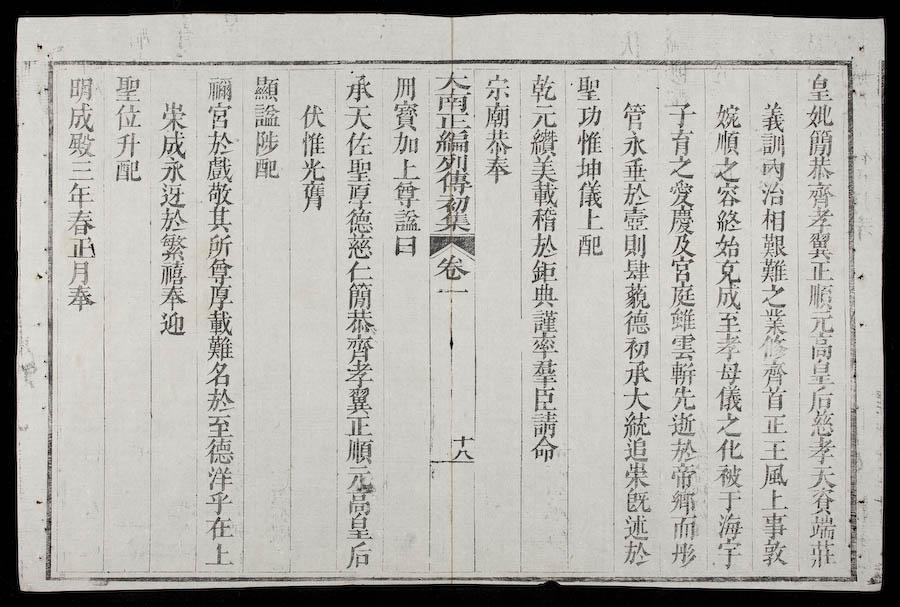c: (342, 71, 376, 103), (433, 254, 471, 282), (157, 99, 190, 131), (663, 99, 698, 128), (757, 100, 788, 132), (527, 72, 559, 103), (804, 230, 836, 261), (64, 101, 97, 131), (110, 73, 144, 102), (804, 540, 839, 568), (572, 73, 604, 103), (712, 539, 744, 569), (803, 72, 835, 102), (249, 73, 282, 102), (527, 128, 560, 157), (758, 539, 791, 568), (435, 171, 473, 196), (62, 208, 97, 235), (202, 438, 237, 465), (432, 69, 473, 92), (433, 130, 472, 154), (390, 101, 421, 131), (482, 73, 514, 102), (343, 387, 375, 416), (342, 103, 375, 131), (804, 282, 837, 310), (157, 233, 190, 261), (528, 358, 561, 386), (343, 336, 377, 363), (804, 437, 838, 464), (110, 103, 144, 130), (298, 182, 328, 212), (712, 101, 743, 130), (620, 282, 652, 310), (713, 384, 745, 412), (481, 128, 513, 156), (667, 333, 699, 361), (204, 74, 236, 102), (343, 541, 375, 569), (803, 102, 836, 129), (343, 438, 376, 465), (805, 410, 838, 437), (64, 285, 97, 312), (620, 540, 653, 567), (806, 488, 839, 515), (712, 333, 745, 360), (63, 131, 97, 157), (202, 515, 236, 541), (64, 235, 99, 260), (619, 100, 648, 130), (575, 180, 605, 209), (666, 128, 697, 156), (621, 461, 652, 489), (667, 462, 699, 489), (157, 132, 189, 159), (619, 206, 651, 233), (758, 232, 790, 259), (621, 411, 653, 438), (666, 207, 698, 234), (343, 131, 375, 158), (805, 386, 837, 413), (804, 182, 836, 209), (758, 308, 790, 335), (65, 74, 97, 101), (528, 411, 560, 438), (528, 436, 560, 463), (667, 541, 699, 568), (111, 131, 143, 158), (758, 360, 790, 387), (712, 463, 745, 489), (757, 258, 790, 284), (63, 180, 96, 206), (203, 387, 236, 413), (667, 515, 700, 541), (203, 542, 236, 568), (433, 91, 472, 113), (758, 512, 791, 538), (805, 515, 839, 540), (252, 129, 282, 157), (482, 156, 512, 184), (574, 129, 604, 157), (390, 73, 420, 101), (621, 309, 652, 336), (391, 181, 422, 208), (666, 180, 697, 207), (528, 233, 559, 260), (805, 335, 836, 362), (713, 512, 745, 538), (344, 235, 376, 261), (621, 360, 653, 386), (667, 386, 699, 412), (344, 466, 376, 492), (713, 412, 745, 438), (203, 465, 235, 491), (758, 462, 790, 488), (204, 335, 236, 361), (344, 209, 376, 235), (666, 412, 699, 437), (343, 310, 376, 335), (805, 464, 839, 488), (298, 102, 328, 129), (344, 514, 374, 541), (805, 129, 835, 156), (204, 205, 234, 232), (251, 103, 282, 129), (528, 157, 559, 183), (204, 130, 235, 156), (204, 156, 235, 182), (574, 233, 605, 259), (528, 207, 559, 233), (112, 158, 143, 184), (204, 258, 235, 284), (712, 259, 743, 285), (204, 310, 235, 336), (157, 311, 188, 337), (621, 514, 652, 540), (204, 284, 235, 310), (667, 490, 699, 515), (621, 386, 653, 411), (713, 437, 745, 462), (667, 361, 699, 386), (528, 183, 560, 208), (667, 438, 699, 463), (433, 212, 473, 232), (805, 360, 837, 385), (758, 437, 790, 462), (804, 156, 836, 181), (805, 311, 837, 336), (759, 335, 791, 360), (157, 261, 189, 286), (157, 207, 189, 232), (203, 413, 235, 438), (343, 362, 376, 386), (345, 283, 374, 310), (205, 102, 234, 129), (529, 284, 559, 310), (713, 208, 743, 234), (757, 181, 787, 207), (667, 257, 697, 283), (712, 130, 742, 156), (482, 103, 512, 129), (204, 233, 234, 259), (713, 285, 743, 311), (619, 132, 649, 158), (529, 386, 559, 412), (759, 386, 789, 412), (620, 182, 651, 207), (343, 158, 374, 183), (391, 209, 422, 234), (528, 104, 559, 129), (712, 234, 743, 259), (757, 132, 788, 157), (758, 283, 789, 308), (619, 157, 650, 182), (157, 183, 188, 208), (621, 336, 652, 361), (622, 489, 653, 514), (713, 310, 744, 335), (204, 361, 235, 386), (713, 360, 744, 385), (157, 286, 189, 310), (528, 310, 560, 334), (528, 334, 560, 358), (621, 233, 650, 259), (574, 104, 604, 129), (529, 260, 559, 285), (712, 157, 742, 182), (668, 283, 698, 308), (713, 183, 743, 208), (668, 308, 698, 333), (758, 207, 788, 232), (344, 491, 374, 516), (204, 181, 234, 206), (621, 437, 651, 462), (390, 132, 421, 156), (665, 156, 696, 180), (204, 491, 235, 515), (157, 159, 188, 183), (433, 154, 472, 173), (299, 131, 327, 157), (344, 184, 373, 209), (391, 157, 421, 181), (621, 259, 651, 283), (390, 235, 420, 259), (574, 209, 605, 232), (65, 260, 96, 283), (344, 260, 375, 283), (759, 413, 790, 436), (804, 208, 836, 230), (298, 158, 327, 182), (251, 157, 280, 181), (574, 157, 604, 180), (759, 489, 789, 512), (714, 489, 744, 512), (434, 196, 472, 214), (434, 284, 470, 303), (65, 158, 96, 180), (804, 260, 835, 282), (668, 234, 697, 257), (758, 158, 787, 181), (344, 416, 375, 437), (433, 114, 473, 130), (451, 433, 476, 449), (451, 448, 475, 463)
